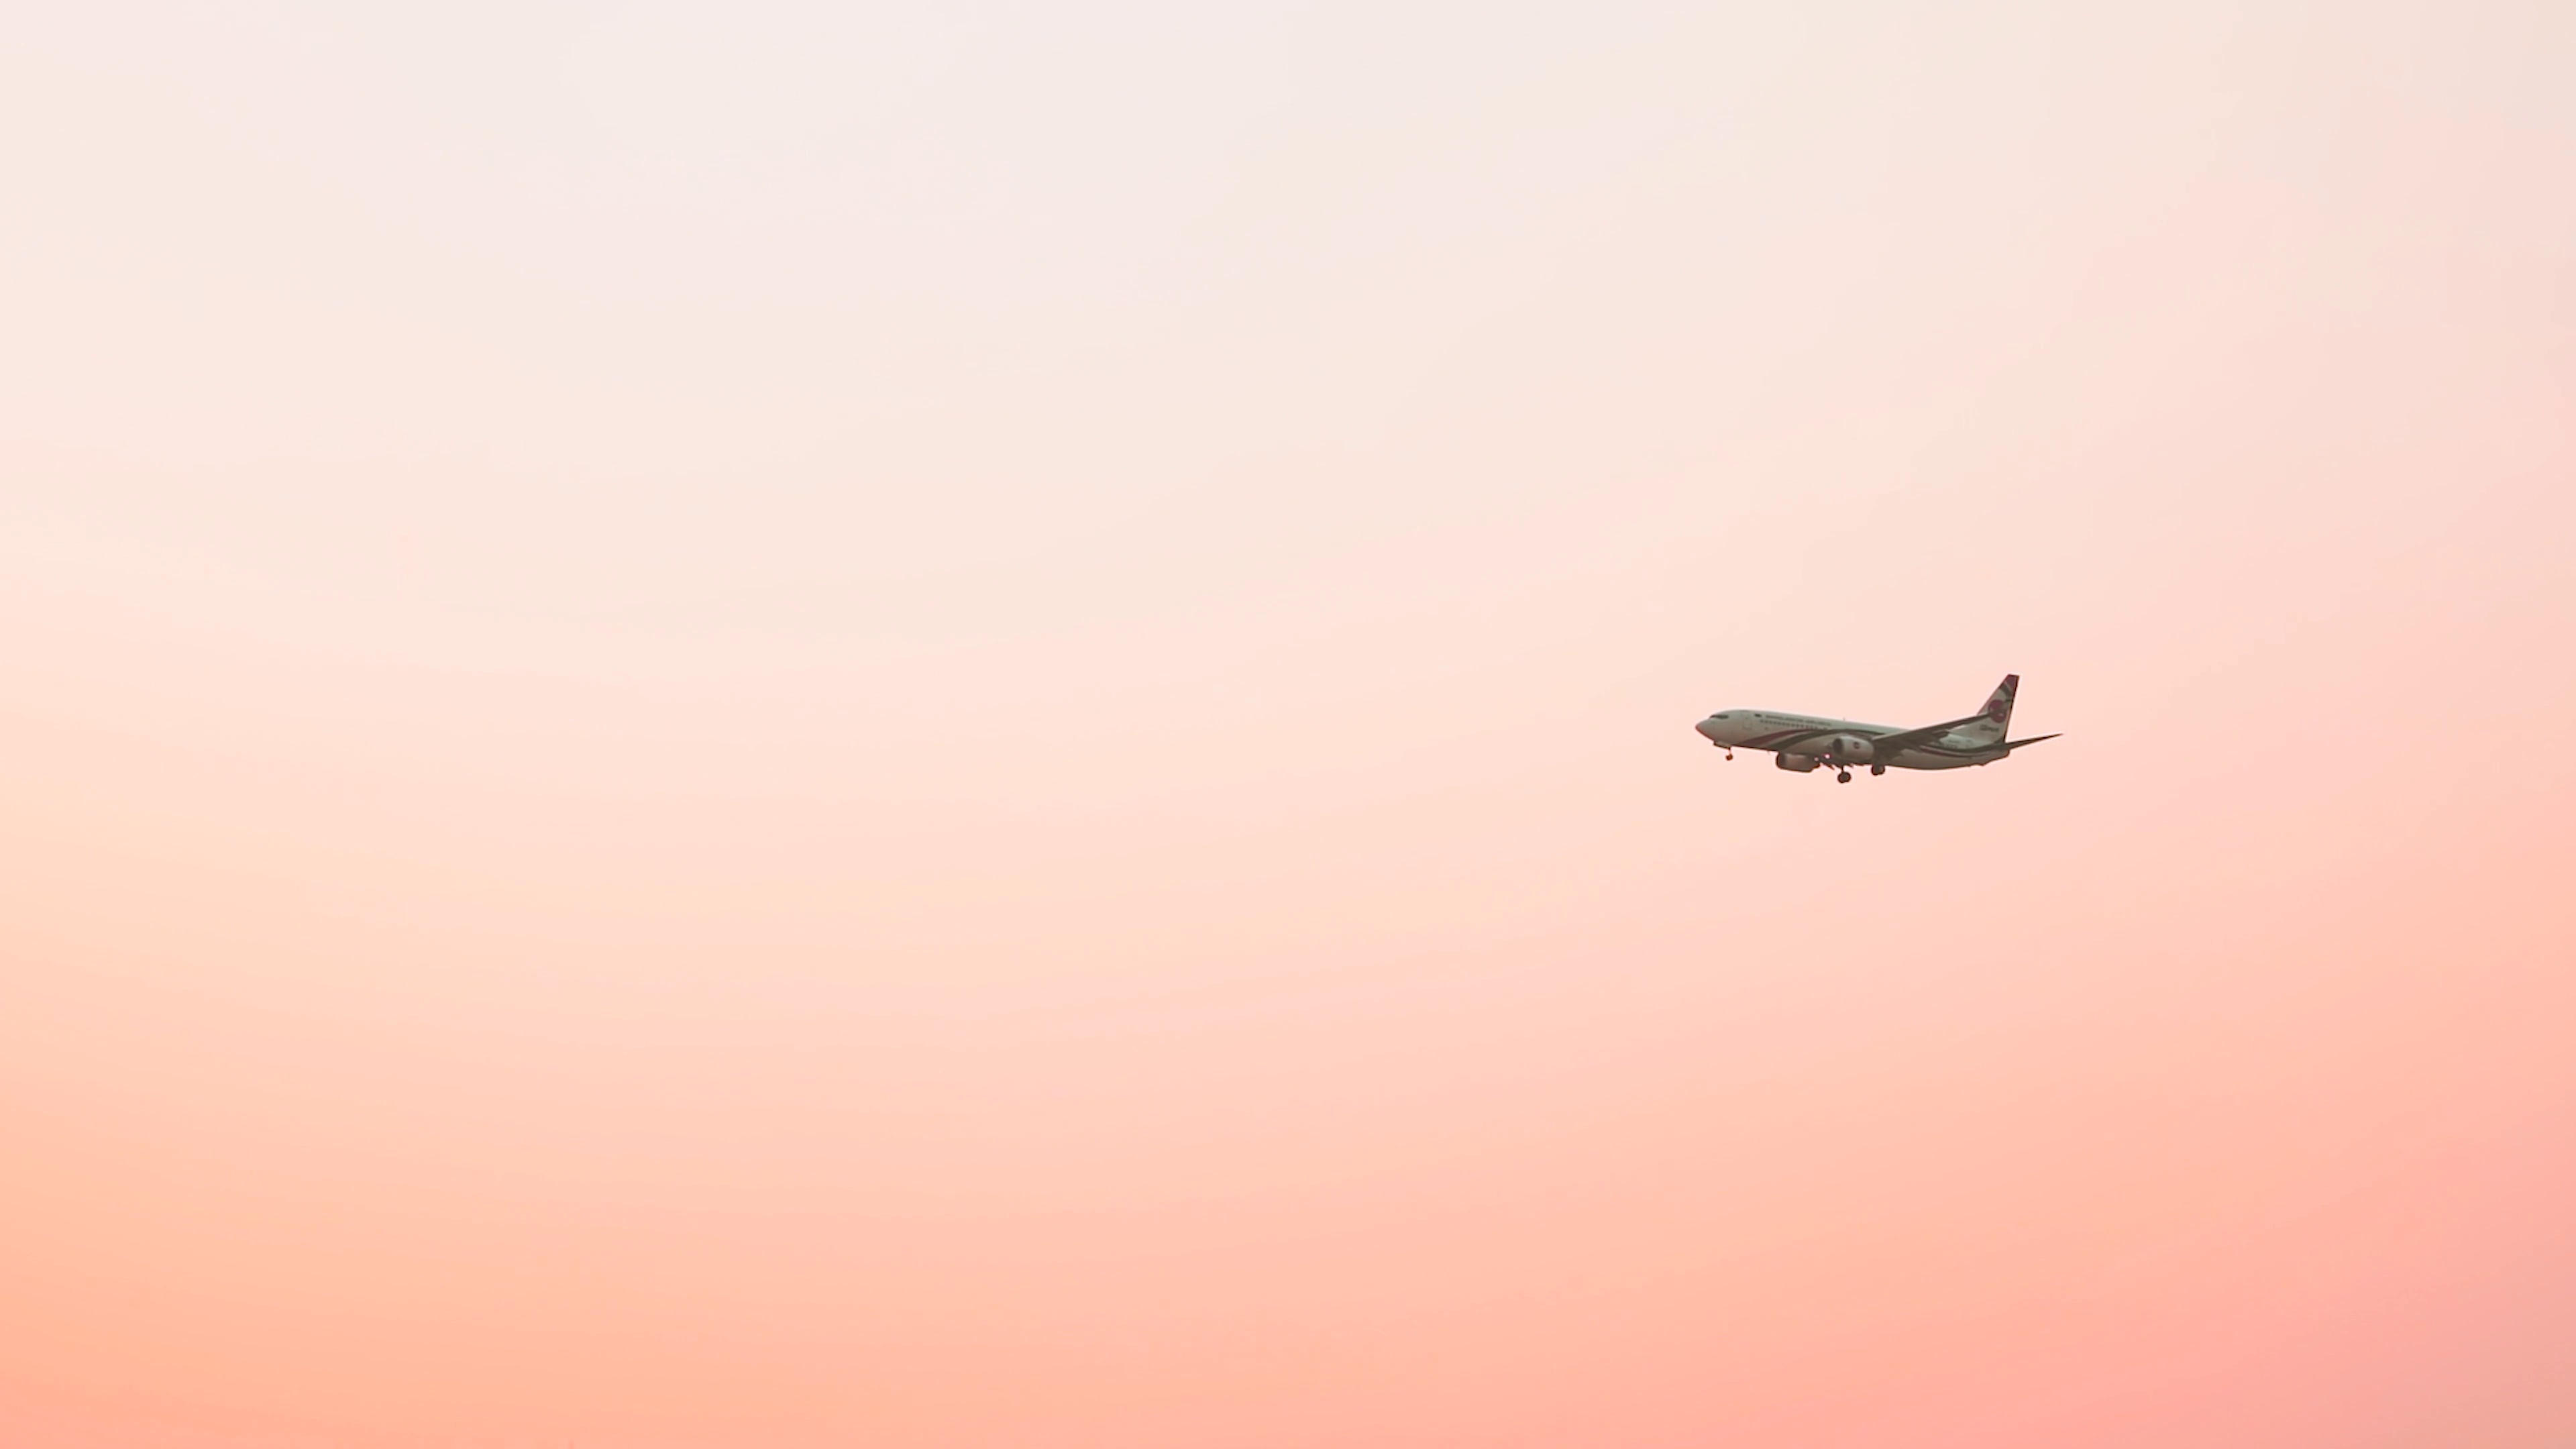plane: (1693, 674, 2065, 786)
